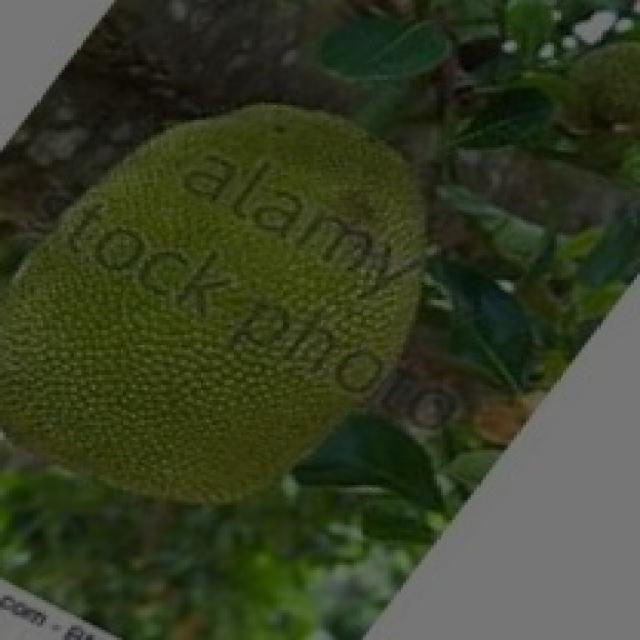Fruit: (0, 138, 400, 542)
